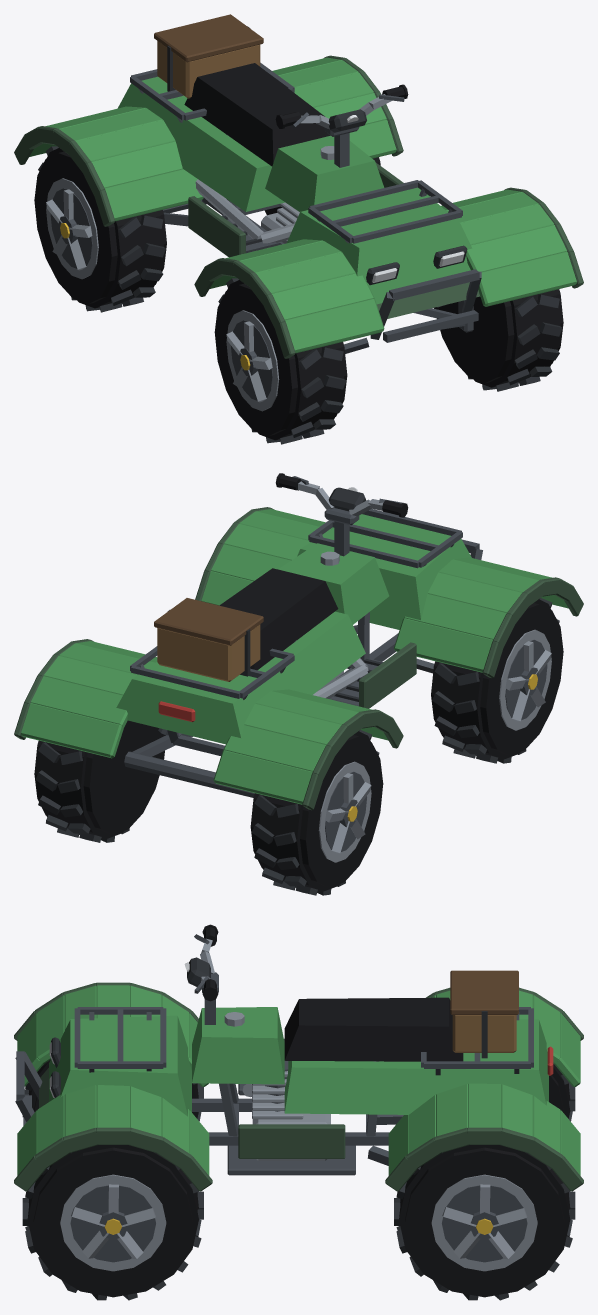
The model's file is quad.glb.
3 renders of one model, top to bottom at view 1: azimuth 30°, elevation 25°; view 2: azimuth 150°, elevation 25°; view 3: azimuth 270°, elevation 25°, orthographic. The views are drawn at different scales.
Visible parts, largest first — view 1: pieces_vert.002, pieces_acier_sombre.006, pieces_vert_fonce.002, pieces_noir.004, roue_avg_noir.004, roue_arg_noir.004, roue_avd_noir.004, pieces_bois_sombre.004, pieces_acier.006, roue_arg_acier.004, roue_avg_acier.004, pieces_bois.006 (+7 smaller); view 2: pieces_vert.002, pieces_acier_sombre.006, pieces_vert_fonce.002, roue_ard_noir.004, roue_avg_noir.004, roue_arg_noir.004, pieces_noir.004, pieces_bois.006, pieces_bois_sombre.004, roue_arg_acier.004, roue_avg_acier.004, roue_avg_fonte.004 (+6 smaller); view 3: pieces_vert.002, pieces_vert_fonce.002, roue_avd_noir.004, roue_ard_noir.004, pieces_acier_sombre.006, pieces_noir.004, roue_avd_acier.004, roue_ard_acier.004, roue_avd_acier_sombre.004, roue_ard_acier_sombre.004, pieces_bois_sombre.004, pieces_acier.006 (+5 smaller).
Boxes of the visible parts, x1,y1,x2,y2 form: pieces_vert.002: (29,57,576,353); pieces_acier_sombre.006: (130,62,481,353); pieces_vert_fonce.002: (14,55,583,358); pieces_noir.004: (184,63,408,166); roue_avg_noir.004: (214,280,347,440); roue_arg_noir.004: (34,148,166,308); roue_avd_noir.004: (434,289,563,387); pieces_bois_sombre.004: (154,14,263,62); pieces_acier.006: (195,94,391,243); roue_arg_acier.004: (46,178,98,279); roue_avg_acier.004: (226,310,279,411); pieces_bois.006: (157,41,260,98); pieces_vert.002: (21,509,568,804); pieces_acier_sombre.006: (124,476,482,797); pieces_vert_fonce.002: (14,507,583,810); roue_ard_noir.004: (34,720,165,838); roue_avg_noir.004: (431,599,563,759); roue_arg_noir.004: (250,731,383,891); pieces_noir.004: (219,473,408,670); pieces_bois.006: (157,624,260,681); pieces_bois_sombre.004: (154,598,263,645); roue_arg_acier.004: (318,761,371,862); roue_avg_acier.004: (499,629,551,730); roue_avg_fonte.004: (432,598,559,763); pieces_vert.002: (17,985,580,1175); pieces_vert_fonce.002: (14,982,583,1191); roue_avd_noir.004: (27,1145,198,1297); roue_ard_noir.004: (399,1145,570,1297); pieces_acier_sombre.006: (15,934,533,1175); pieces_noir.004: (202,924,463,1061); roue_avd_acier.004: (60,1174,166,1271); roue_ard_acier.004: (431,1174,537,1271); roue_avd_acier_sombre.004: (70,1185,155,1262); roue_ard_acier_sombre.004: (442,1185,527,1262); pieces_bois_sombre.004: (450,970,518,1014); pieces_acier.006: (200,938,330,1160).
Size of the model in its own units: 1.23 by 1.09 by 2.
